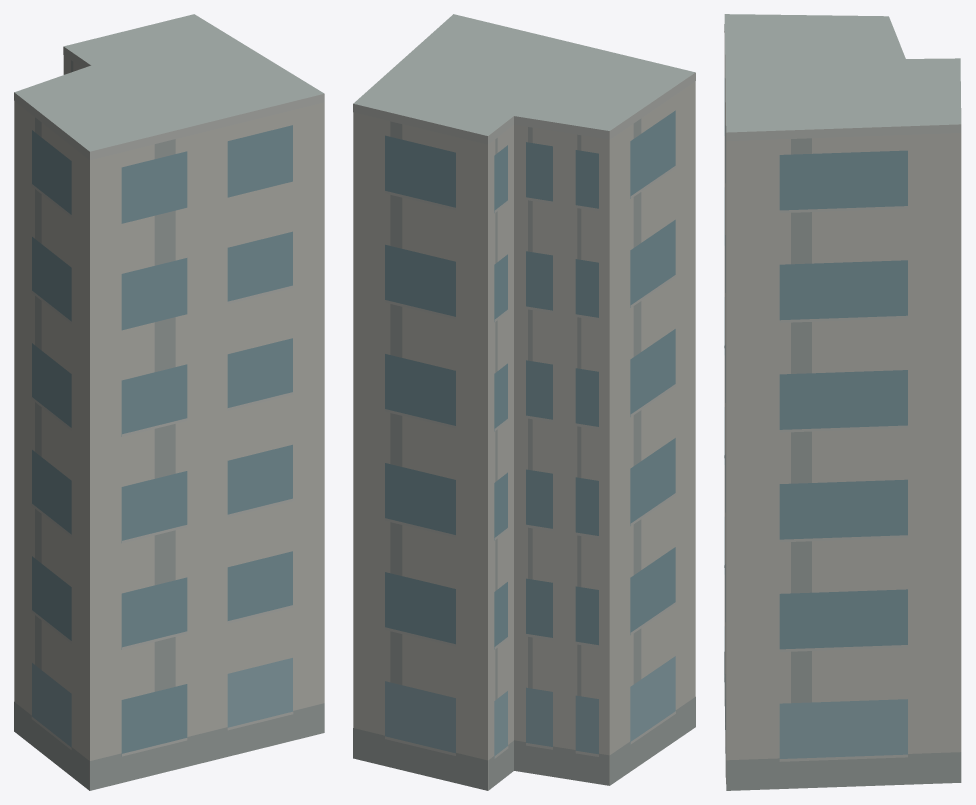
The model's file is survey-upis-32978646.glb.
3 views of the same model, side by side, from view 1: azimuth 30°, elevation 25°; view 2: azimuth 150°, elevation 25°; view 3: azimuth 270°, elevation 25° (orthographic). The views are drawn at different scales.
Parts seen in each view (by area): view 1: survey-upis-32978646.tmp; view 2: survey-upis-32978646.tmp; view 3: survey-upis-32978646.tmp.
Boxes of the visible parts, x1=… form: survey-upis-32978646.tmp: x1=14, y1=14, x2=324, y2=790; survey-upis-32978646.tmp: x1=353, y1=14, x2=695, y2=790; survey-upis-32978646.tmp: x1=724, y1=14, x2=961, y2=790.
Size of the model in its own units: 7.07 by 18.3 by 5.98.
